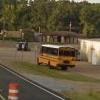Bus: (36, 40, 80, 71)
